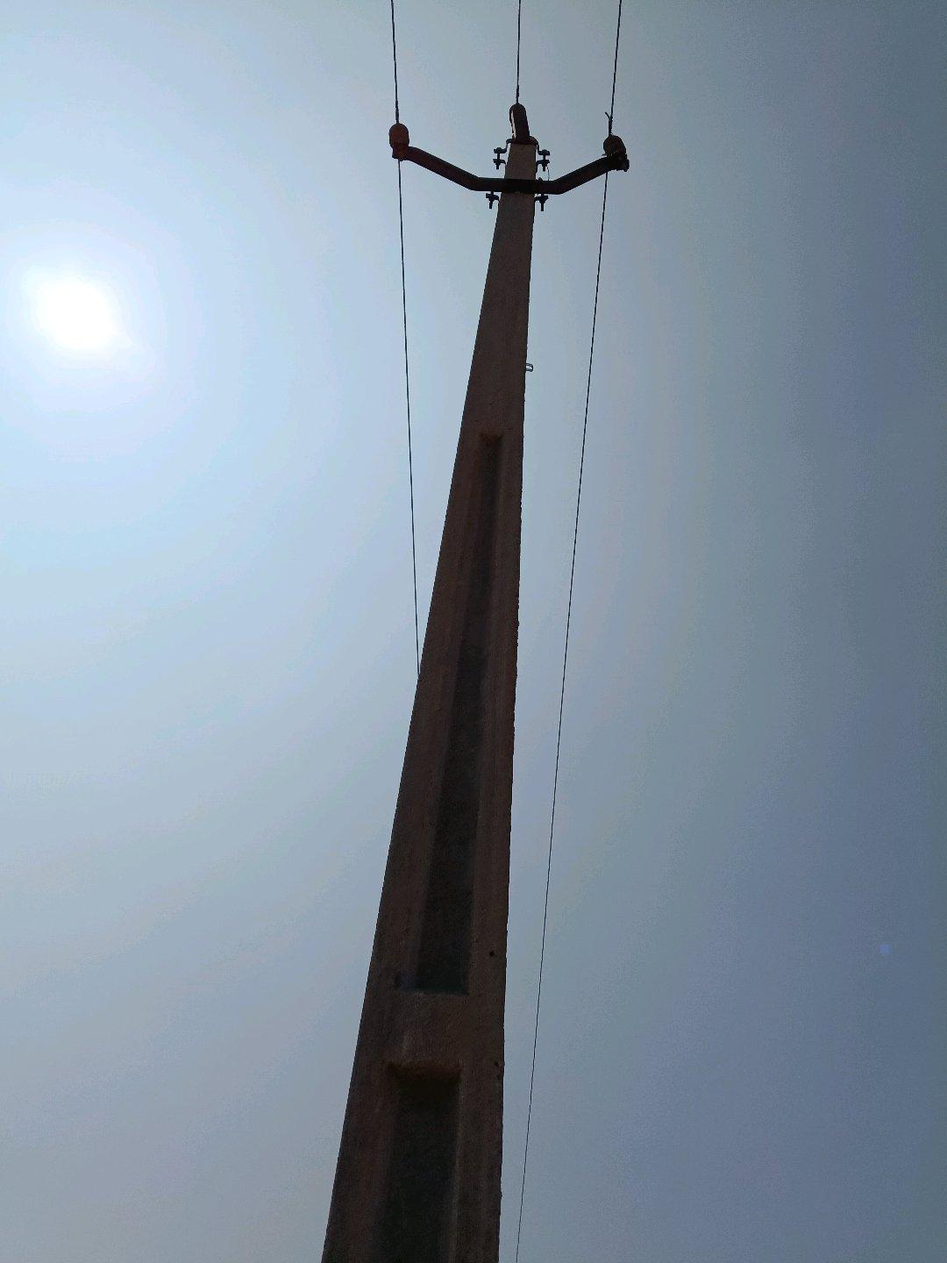{"0" "insulator", "1" "pole", "2" "crossarm", "3" "conductor", "4" "street_: (322, 98, 628, 1262), (614, 59, 616, 73), (611, 101, 613, 107)
